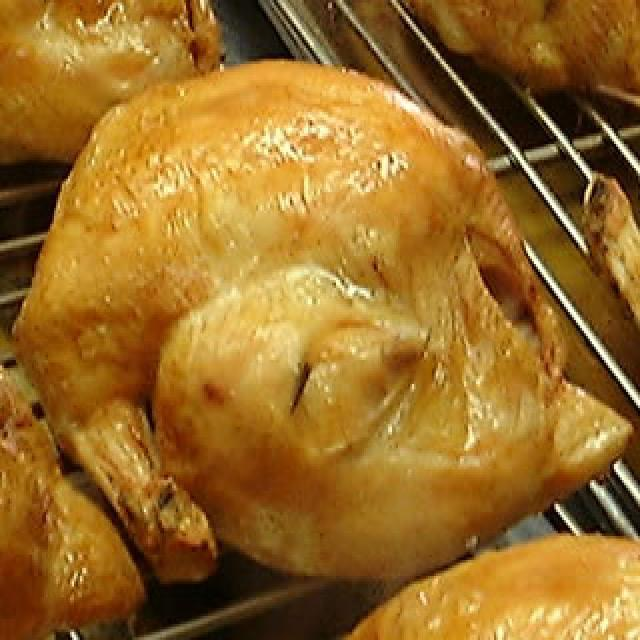Chicken roast: (62, 78, 636, 582)
